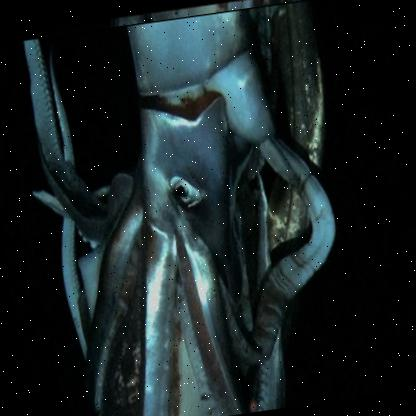colossal_squid: (9, 0, 386, 415)
